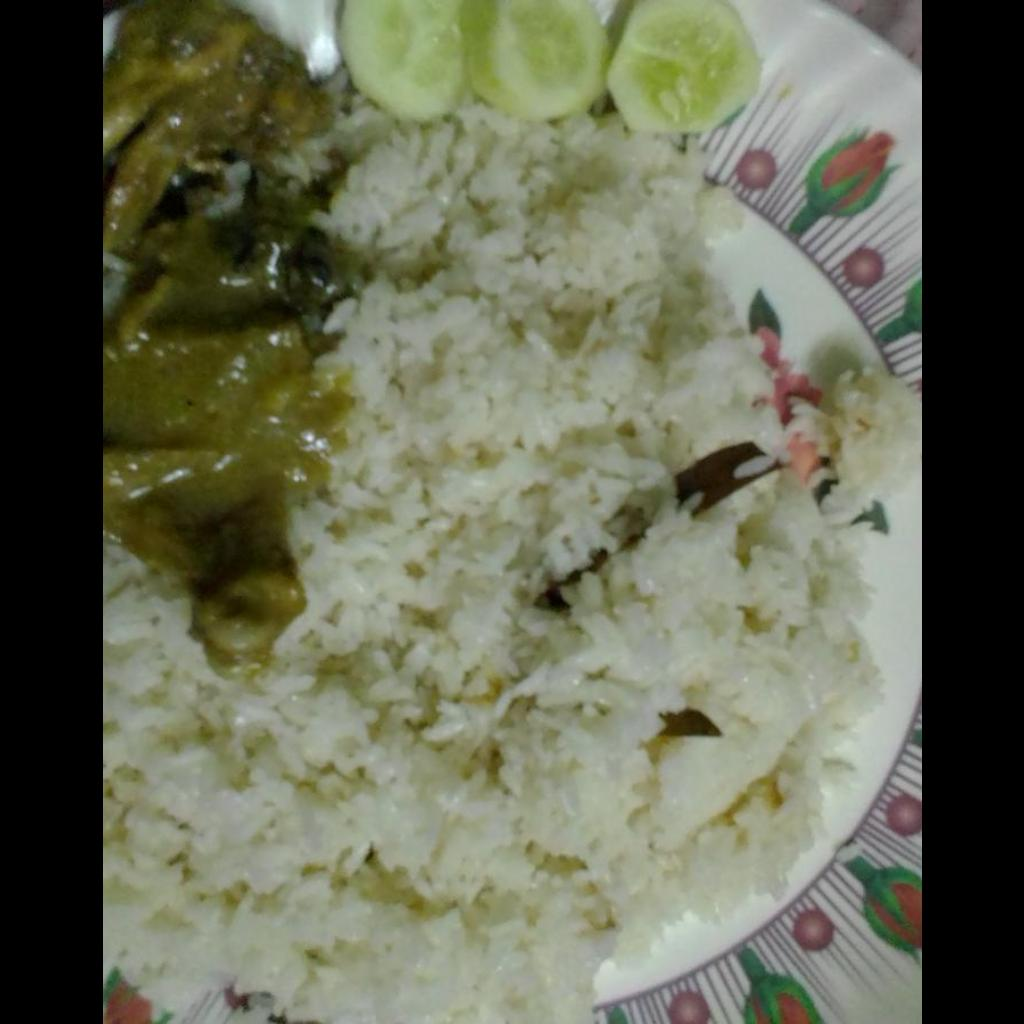cucumber: (340, 0, 758, 133)
rice: (102, 118, 920, 1023)
vegetable: (102, 0, 364, 664)
